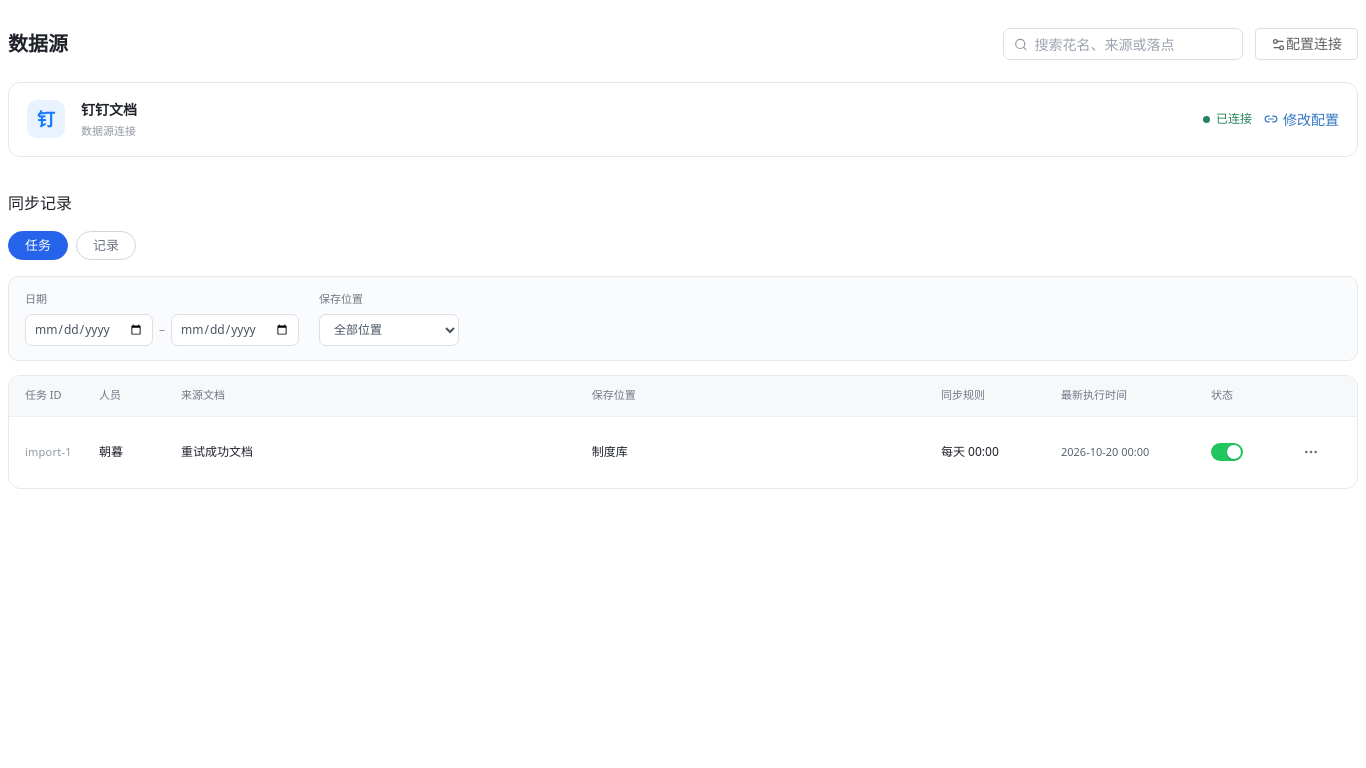
Test: DingTalk per-document sync details › shows a dash for successful documents even if the source record retains an old failure reason
Click the button "记录" at (106, 245), box [76, 230, 136, 260]
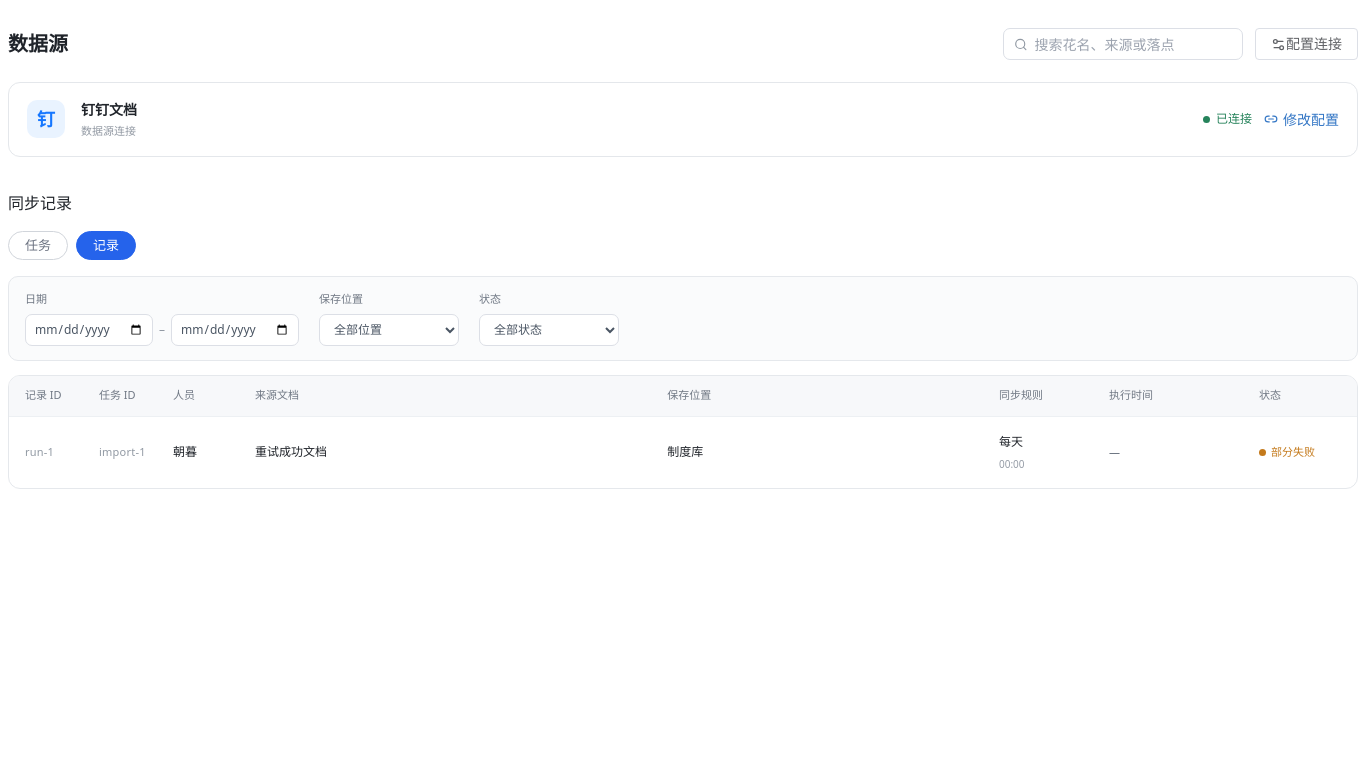
Click the button with aria-label "查看同步记录run-1" at (57, 452), box [25, 443, 89, 461]
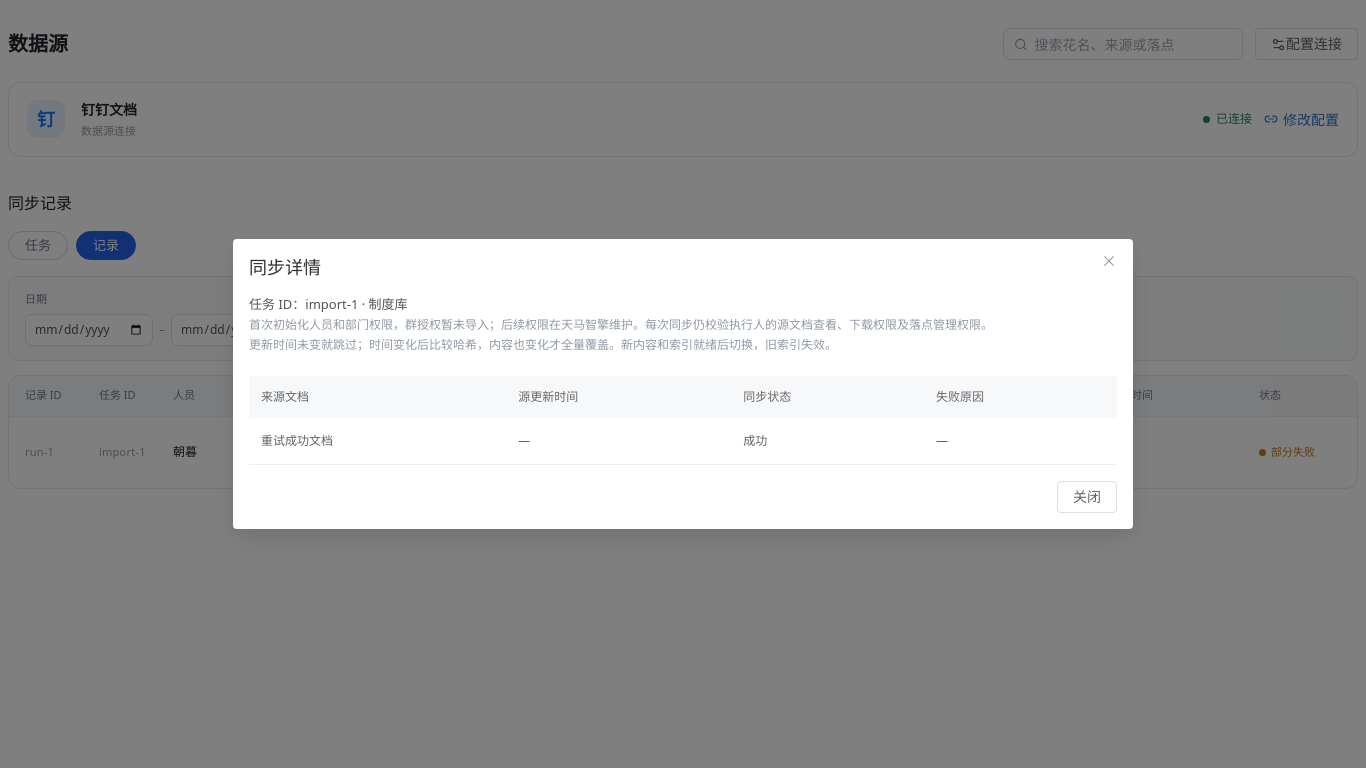
Check: the 2nd cell "—" is shown, box [924, 418, 1117, 464]
